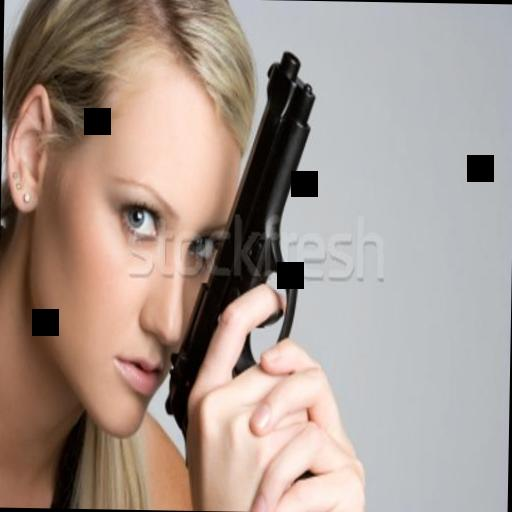Handgun: (153, 29, 320, 444)
